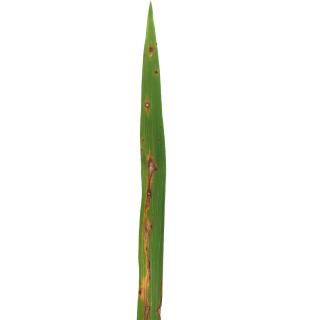Blast: (148, 152, 156, 183), (142, 218, 150, 248), (142, 299, 151, 320), (145, 98, 155, 116), (147, 187, 154, 211), (146, 260, 152, 286), (157, 296, 162, 320), (148, 42, 154, 58), (155, 68, 158, 76)
